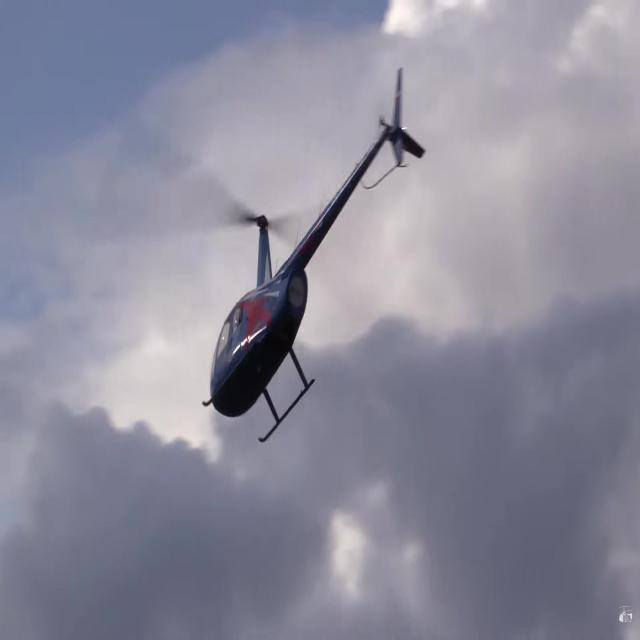CIV_HELO: (197, 64, 429, 446)
